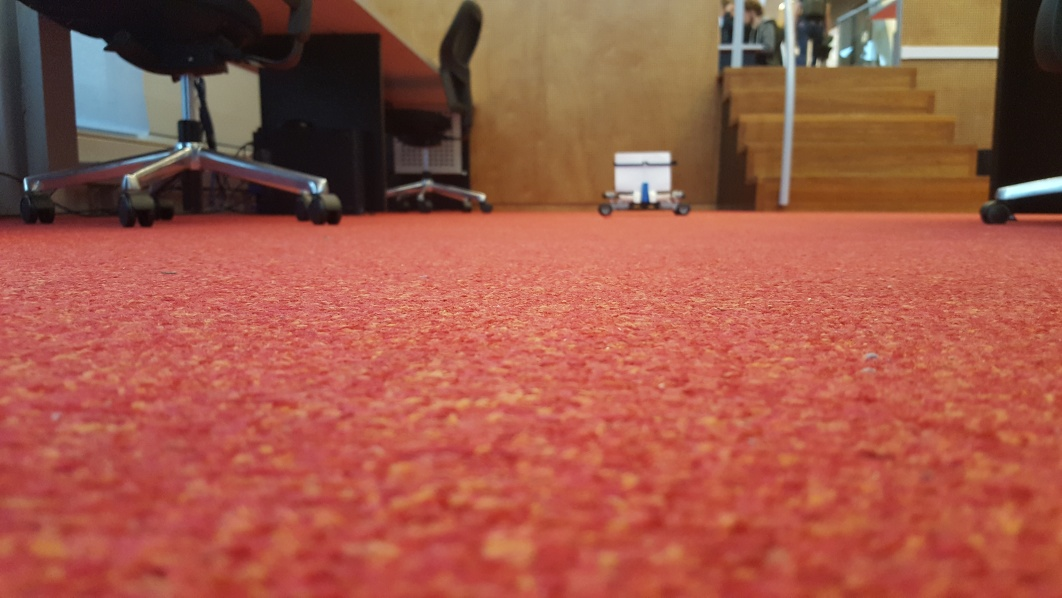car: (597, 152, 691, 212)
